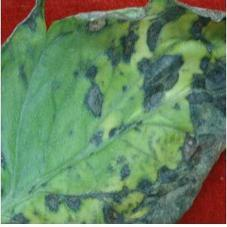Bacterial Spot: (2, 0, 225, 223)
